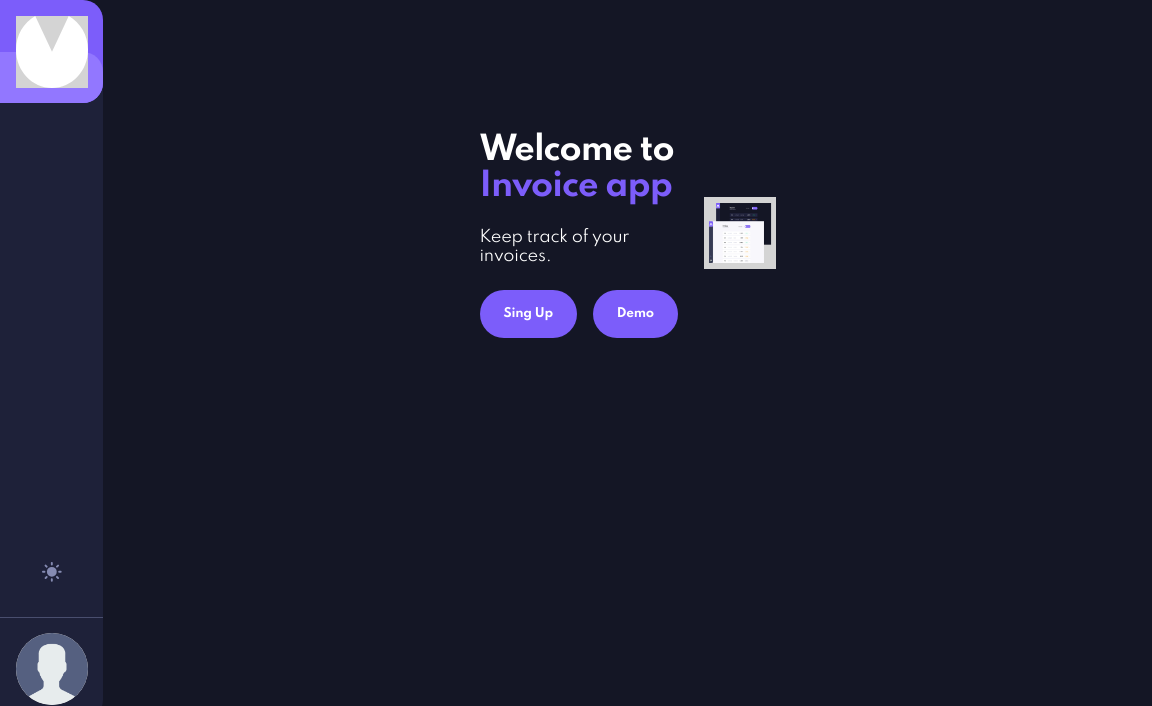
it: demo mode › should not let save changes if validation fails
This screenshot has width=1152, height=706.
Click the button "Demo" at (636, 314), box 593,290 -> 678,338
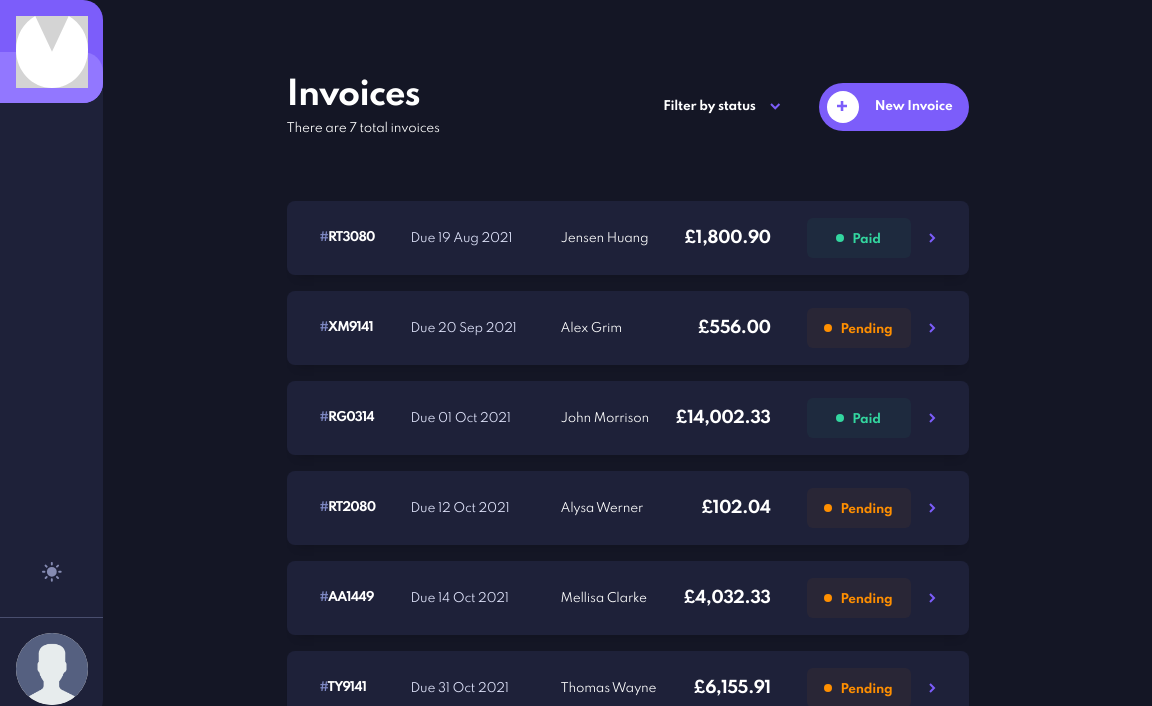
Click the text "Alex Grim" at (592, 329), box 561,321 -> 622,336
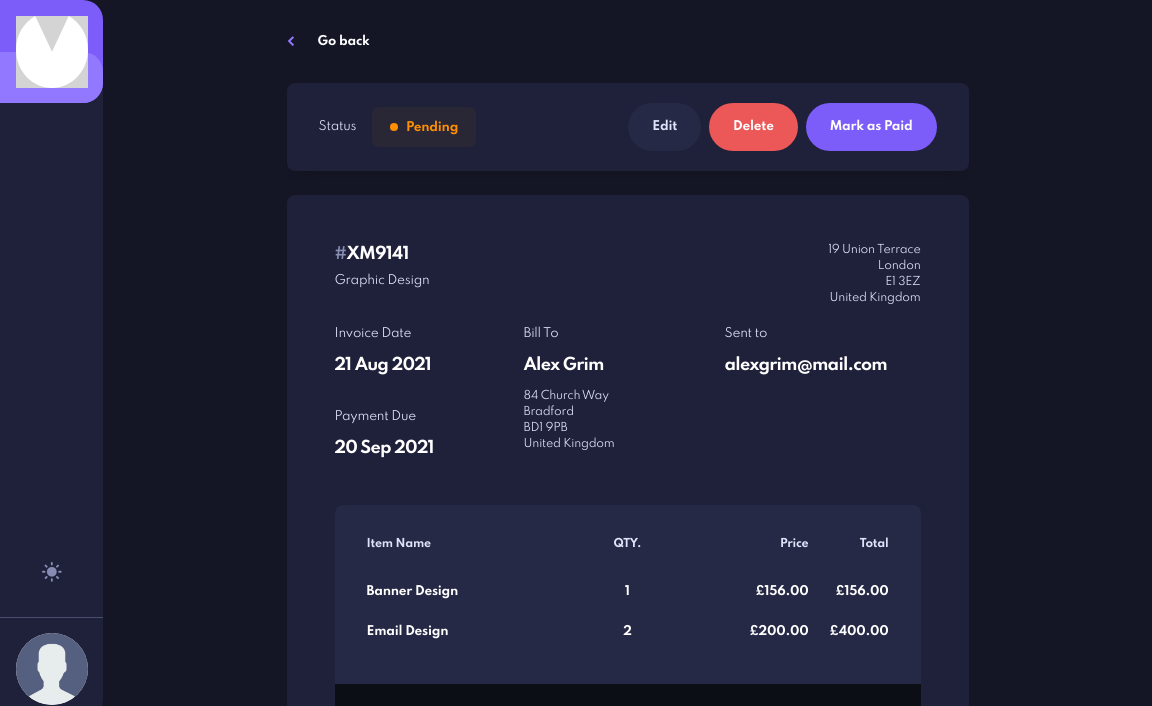
Click the button "Edit" at (665, 127), box 628,103 -> 701,151
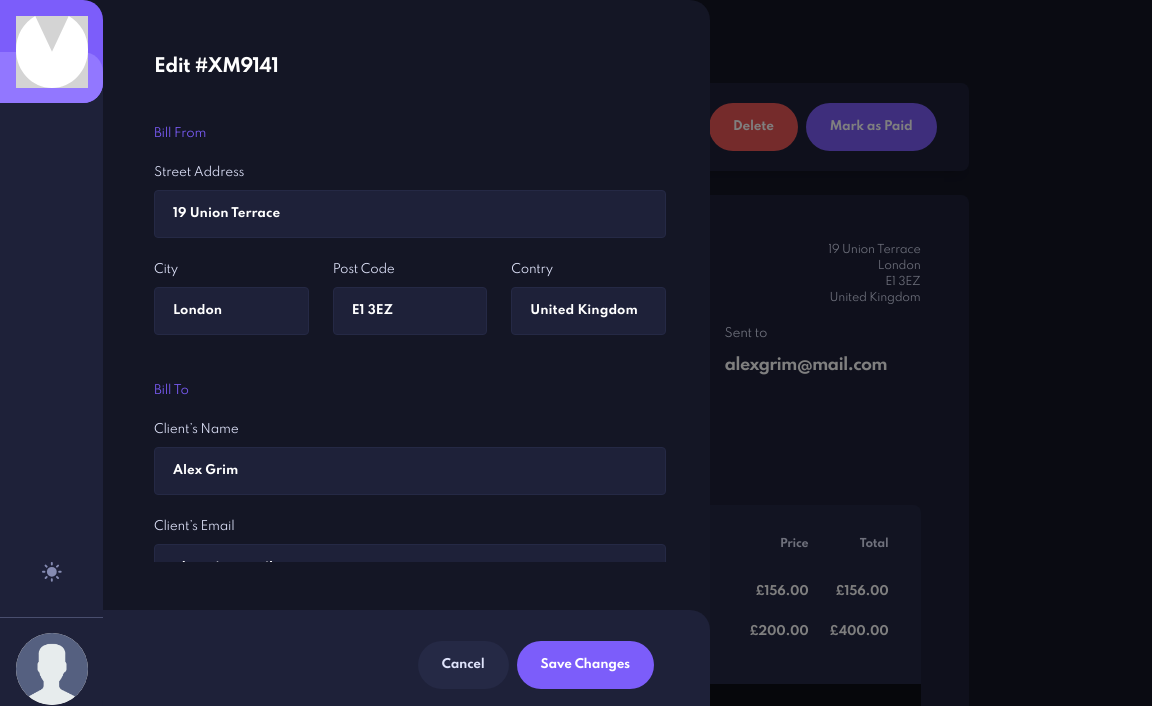
Scroll
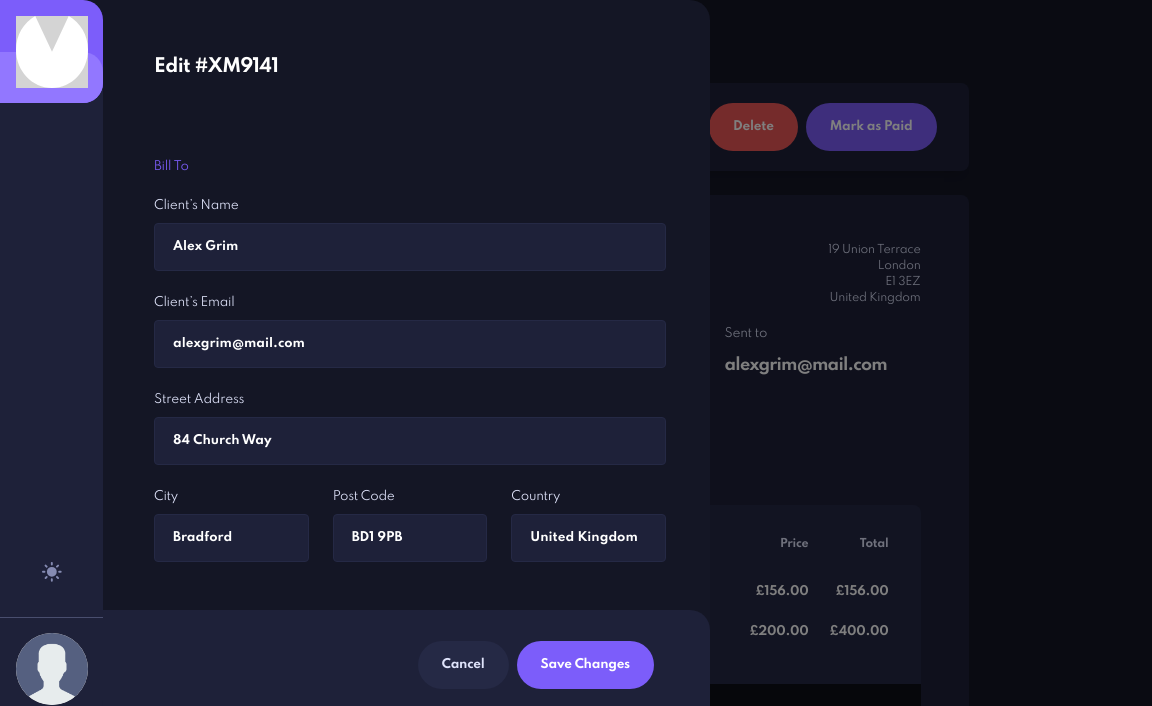
Replace the text in the field named "clientemail" with "test.com" at (410, 344), box 154,320 -> 666,368
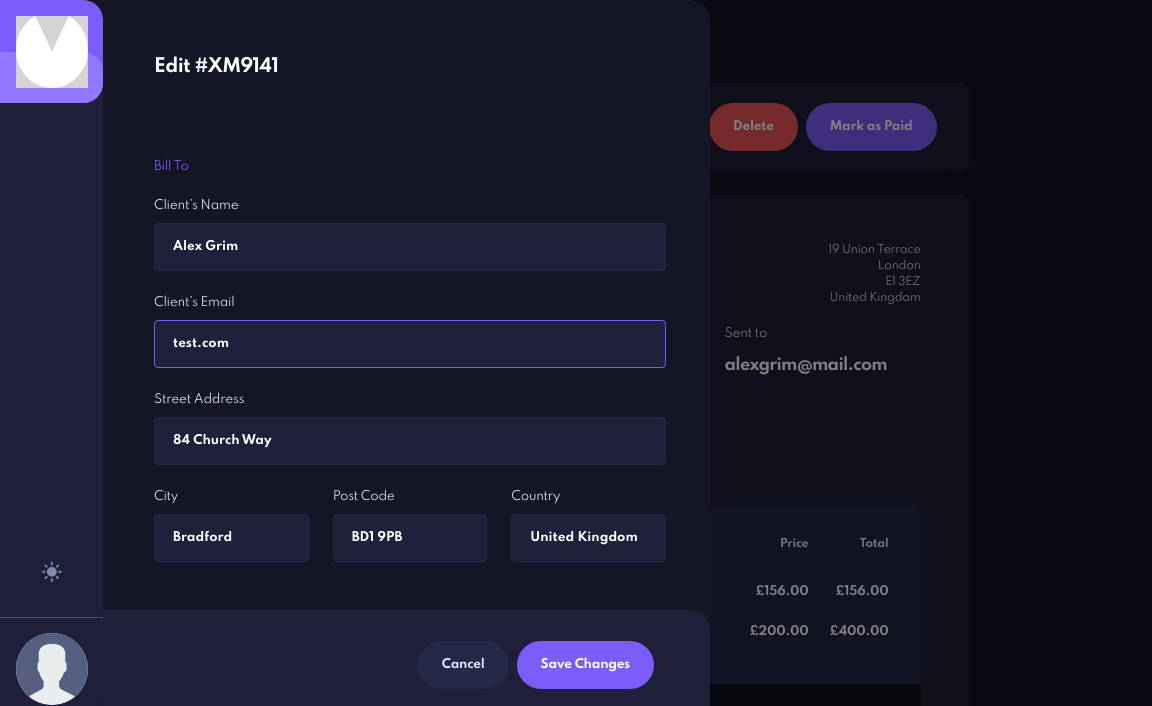
Click the button "Save Changes" at (586, 665), box 517,641 -> 654,689
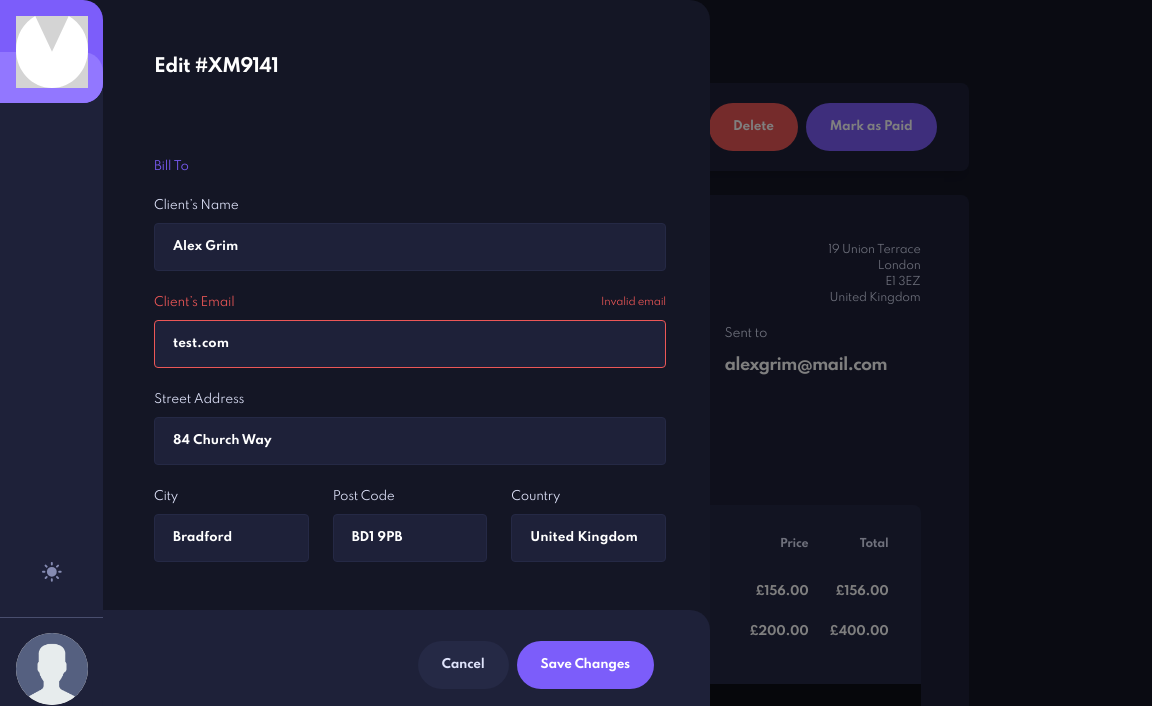
Expected: the text "Invalid email" is shown, 601,295 -> 666,310
